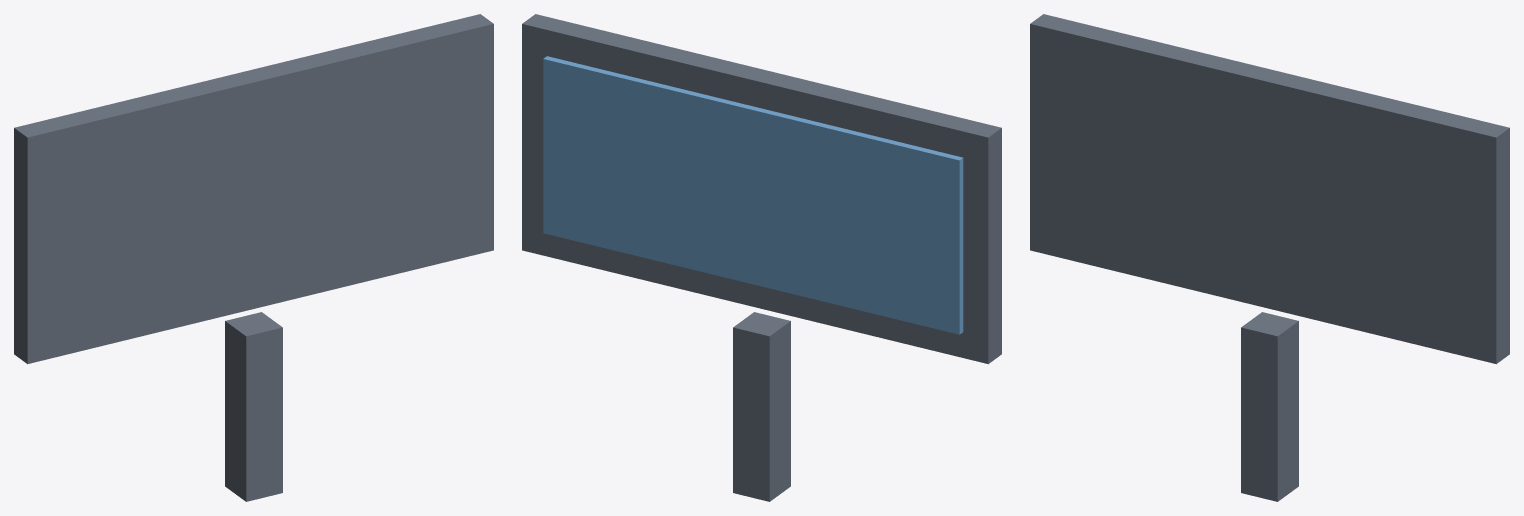
Rendered from info-display.glb.
The picture shows the model from 3 angles, left to right: view 1: azimuth 30°, elevation 25°; view 2: azimuth 150°, elevation 25°; view 3: azimuth 330°, elevation 25°; orthographic projection.
Parts seen in each view (by area): view 1: world; view 2: world; view 3: world.
Part boxes in pixels (<box>): world: <box>14,14,493,501</box>; world: <box>522,14,1001,501</box>; world: <box>1030,14,1509,501</box>.
Size of the model in its own units: 2.8 by 2.38 by 0.22.
